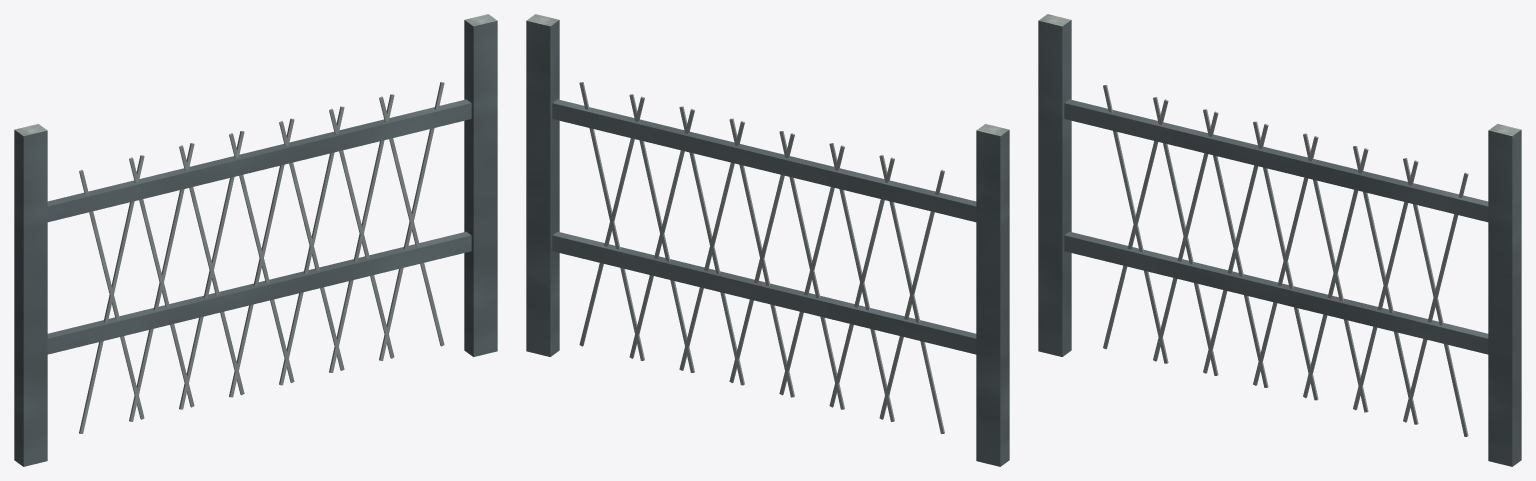
The model's file is fence_metal_chain.fbx.
The picture shows the model from 3 angles, left to right: view 1: azimuth 30°, elevation 25°; view 2: azimuth 150°, elevation 25°; view 3: azimuth 330°, elevation 25°; orthographic projection.
Parts seen in each view (by area): view 1: fence_metal_chain; view 2: fence_metal_chain; view 3: fence_metal_chain.
Part boxes in pixels (box(x1,y1,x2,y2)): fence_metal_chain: box(14, 14, 497, 466); fence_metal_chain: box(526, 14, 1009, 466); fence_metal_chain: box(1038, 14, 1521, 466).
Bounding box in the file's own units: 300 × 200 × 10.
1 material, 1 textured.
